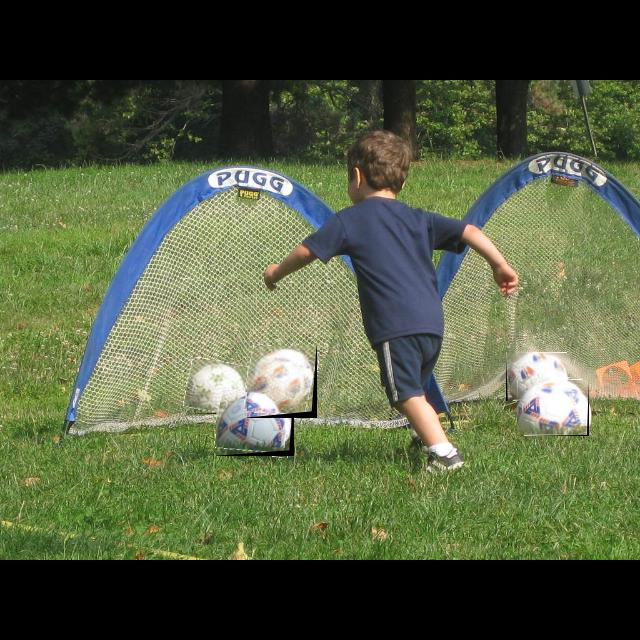Football: (247, 346, 317, 418), (216, 392, 294, 456), (517, 380, 589, 436), (186, 360, 248, 414), (506, 353, 570, 401)
